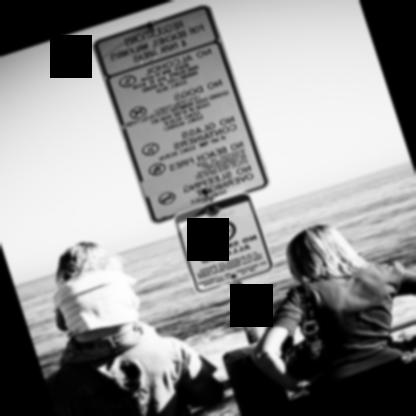handbag: (285, 283, 321, 382)
